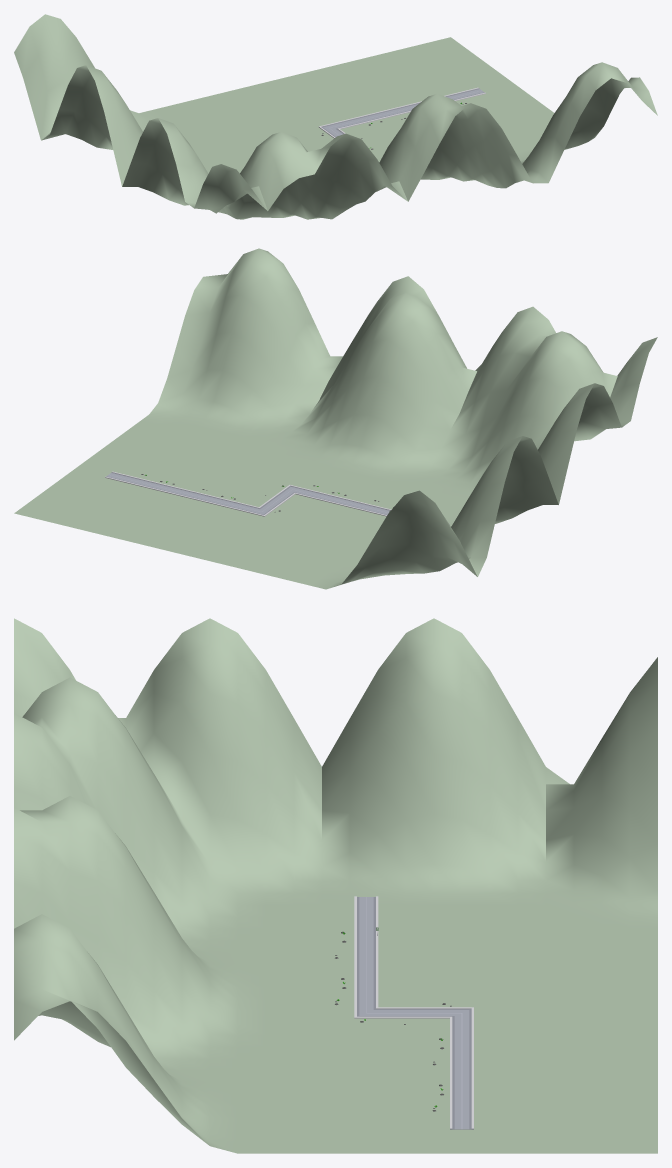
The model's file is Map_Tutorial 1.fbx.
3 renders of one model, top to bottom at view 1: azimuth 30°, elevation 25°; view 2: azimuth 150°, elevation 25°; view 3: azimuth 270°, elevation 25°, orthographic. The views are drawn at different scales.
Visible parts, largest first — view 1: Background, Road; view 2: Background, Road; view 3: Background, Road.
Boxes of the visible parts, x1,y1,x2,y2 form: Background: [14, 14, 657, 219]; Road: [318, 87, 485, 138]; Background: [14, 248, 657, 589]; Road: [105, 471, 449, 524]; Background: [14, 618, 657, 1153]; Road: [354, 896, 473, 1129].
Bounding box in the file's own units: 1312 × 385 × 1078.
